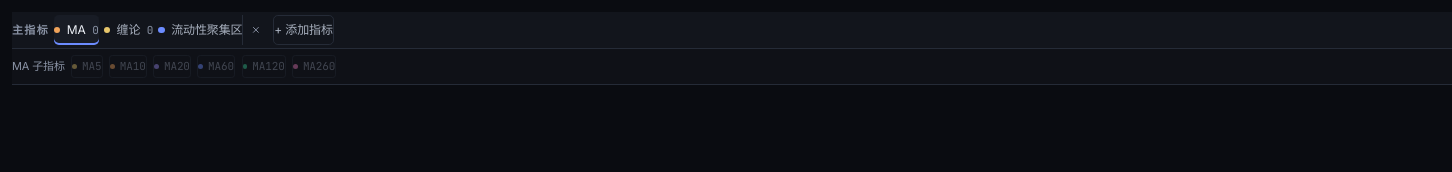
Test case: 流动性聚集区的参数面板 › 每个参数旁都有信息图标，点击弹出该参数的含义
Click the button "流动性聚集区": (200, 30) [158,15,242,45]
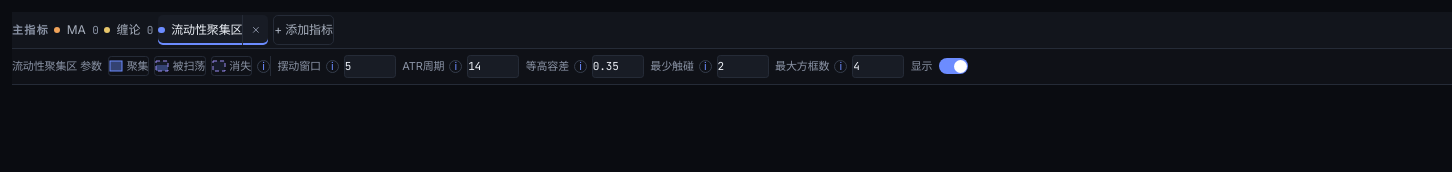
expect the button named "摆动窗口说明" is shown: met, box [326,60,339,73]
expect the button named "ATR周期说明" is shown: met, box [449,60,462,73]
expect the button named "等高容差说明" is shown: met
Click the button named "等高容差说明": (580, 66) [574,60,587,73]
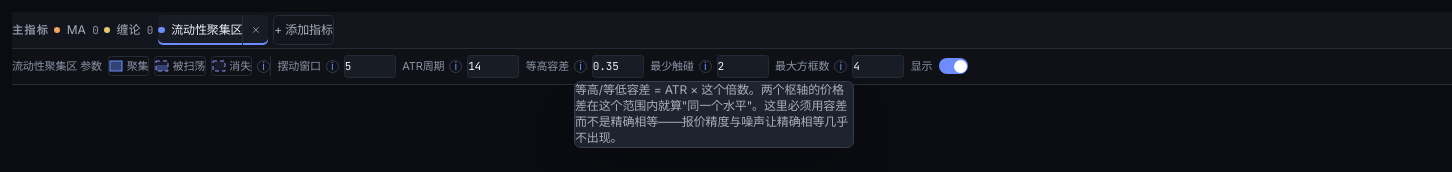
expect the tooltip shows "等高/等低容差 = ATR × 这个倍数": met, box [575,82,848,145]
expect the tooltip shows "精确相等几乎不出现": met, box [575,82,848,145]
